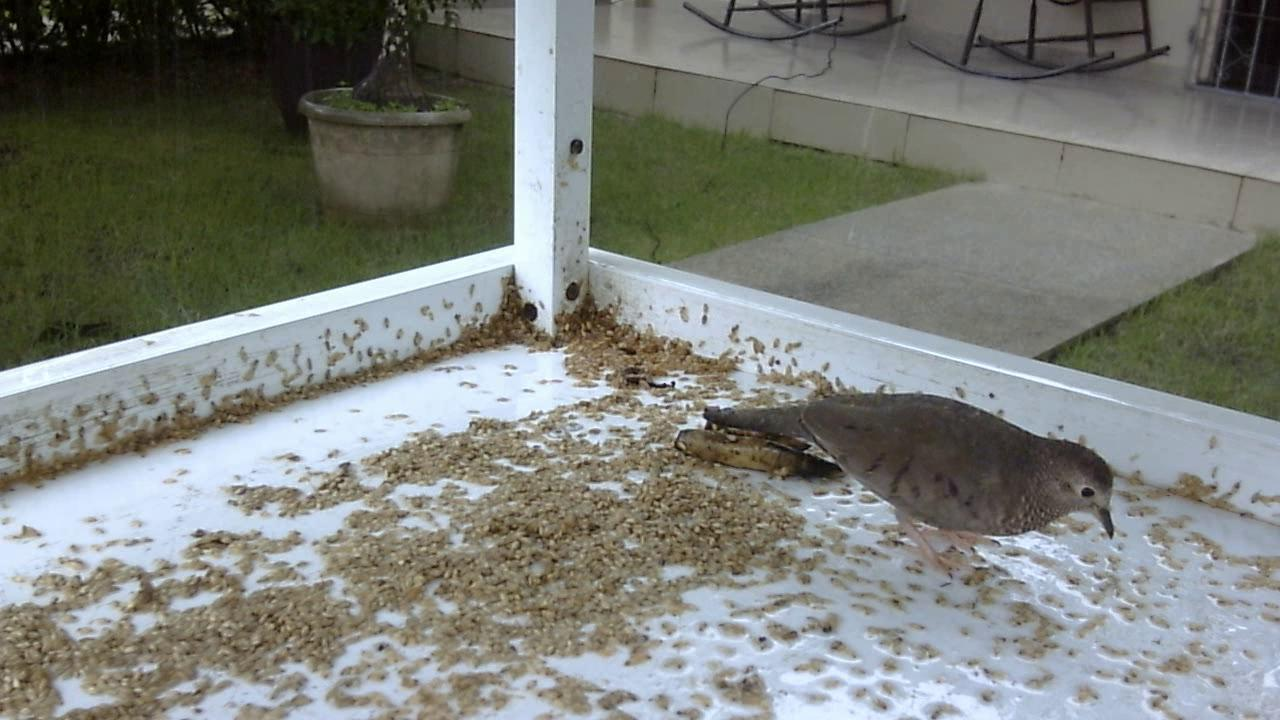rolinha: (685, 378, 1120, 581)
